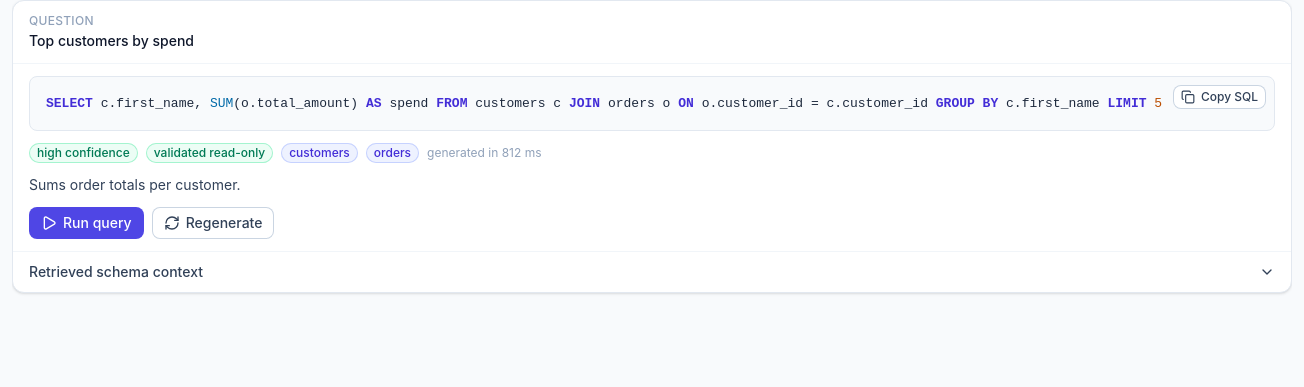
Scenario: TurnCard › shows execution errors from the backend
Click the button "Run query": x=86, y=223 [29,207,144,239]
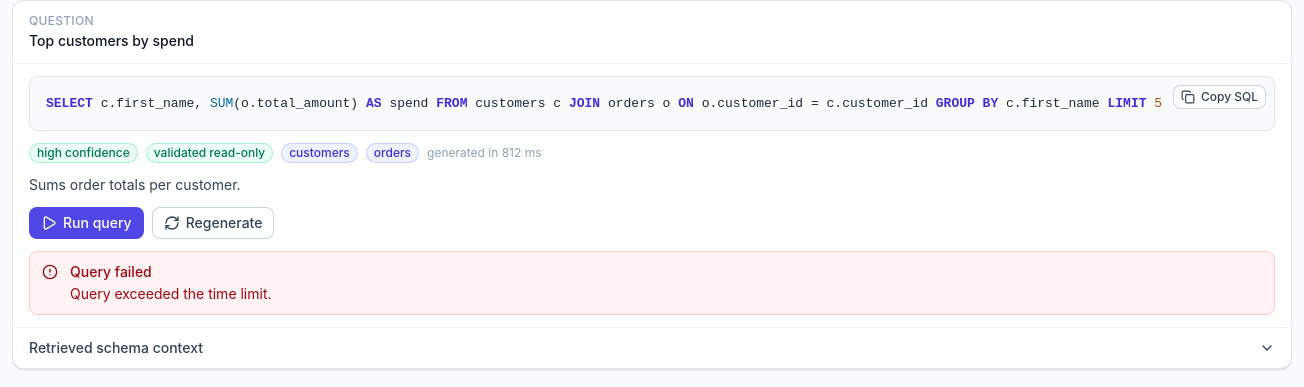
Now the message shows "Query exceeded the time limit.", box [70,285,272,302]
